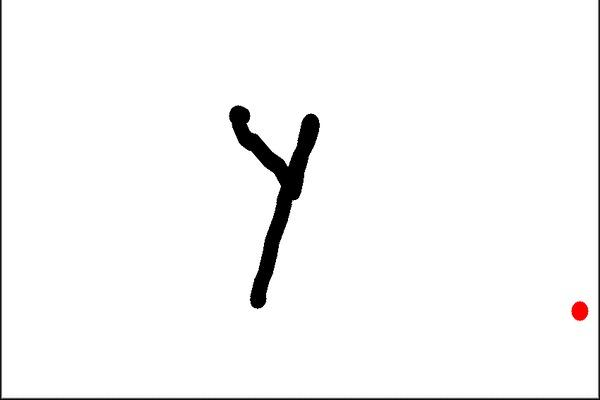Y: (210, 92, 324, 350)
